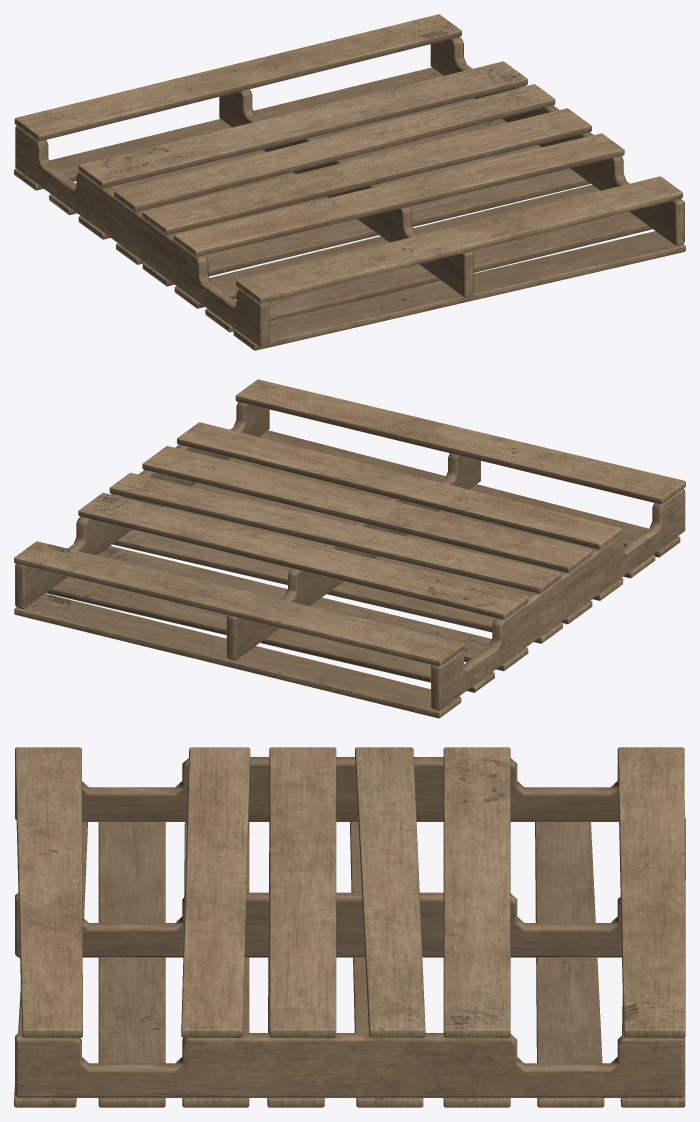
Rendered from Pallet.fbx.
3 renders of one model, top to bottom at view 1: azimuth 30°, elevation 25°; view 2: azimuth 150°, elevation 25°; view 3: azimuth 270°, elevation 25°, orthographic. The views are drawn at different scales.
Visible parts, largest first — view 1: pallet; view 2: pallet; view 3: pallet.
Part boxes in pixels (left/top/right/bottom): pallet: left=14, top=14, right=685, bottom=350; pallet: left=14, top=379, right=685, bottom=718; pallet: left=14, top=747, right=685, bottom=1107.
Bounding box in the file's own units: 12497 × 1625 × 12539.
1 material, 1 textured.
